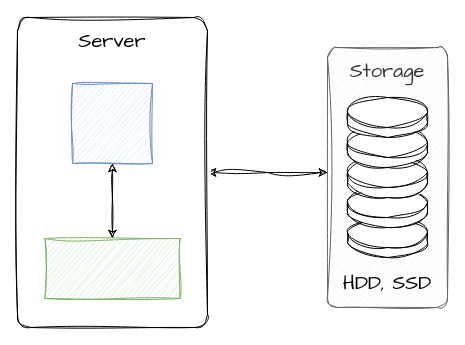
The diagram is 465 pixels wide and 345 high, and some of its shapes have lost their labels. The centre of each missing label's shape, as x and y in pixels:
"CPU" goes at (112,123).
"In-Memory" goes at (112,268).
